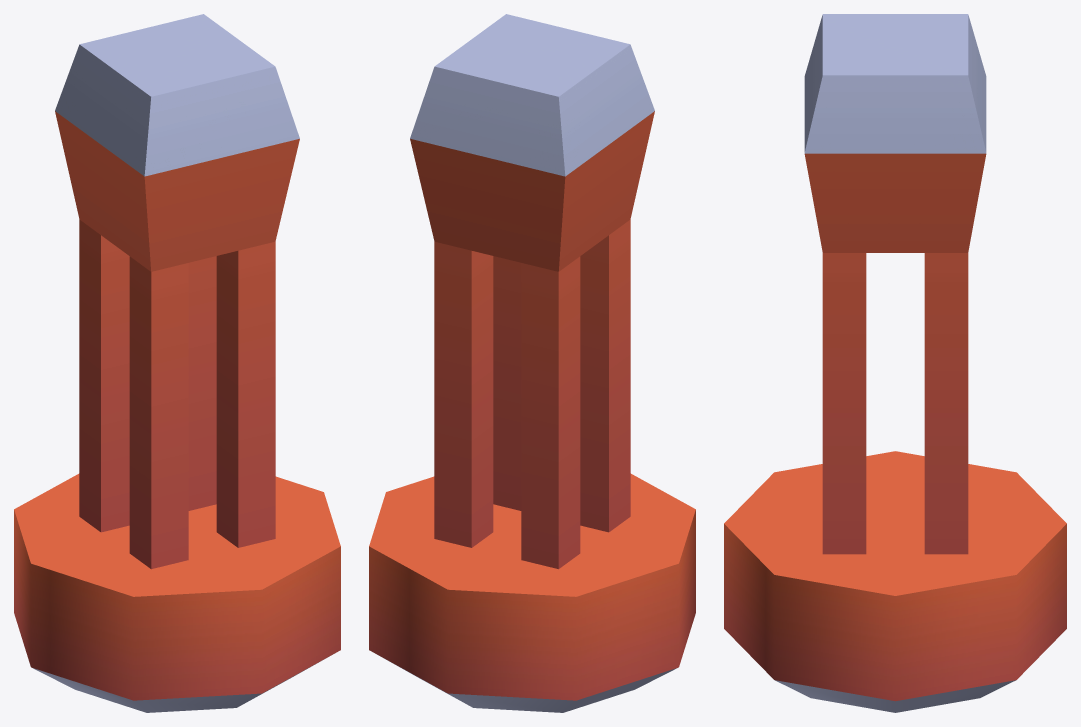
File: buoy-transformed-transformed.glb
3 renders of one model, left to right at view 1: azimuth 30°, elevation 25°; view 2: azimuth 150°, elevation 25°; view 3: azimuth 270°, elevation 25°, orthographic.
Visible parts, largest first — view 1: buoy; view 2: buoy; view 3: buoy.
Part boxes in pixels (box(x1,y1,x2,y2)): buoy: box(14, 14, 340, 712); buoy: box(369, 14, 695, 712); buoy: box(724, 14, 1066, 712).
Bounding box in the file's own units: 0.9282 × 1.84 × 0.9282.
Materials: 1 (1 with a texture image).
